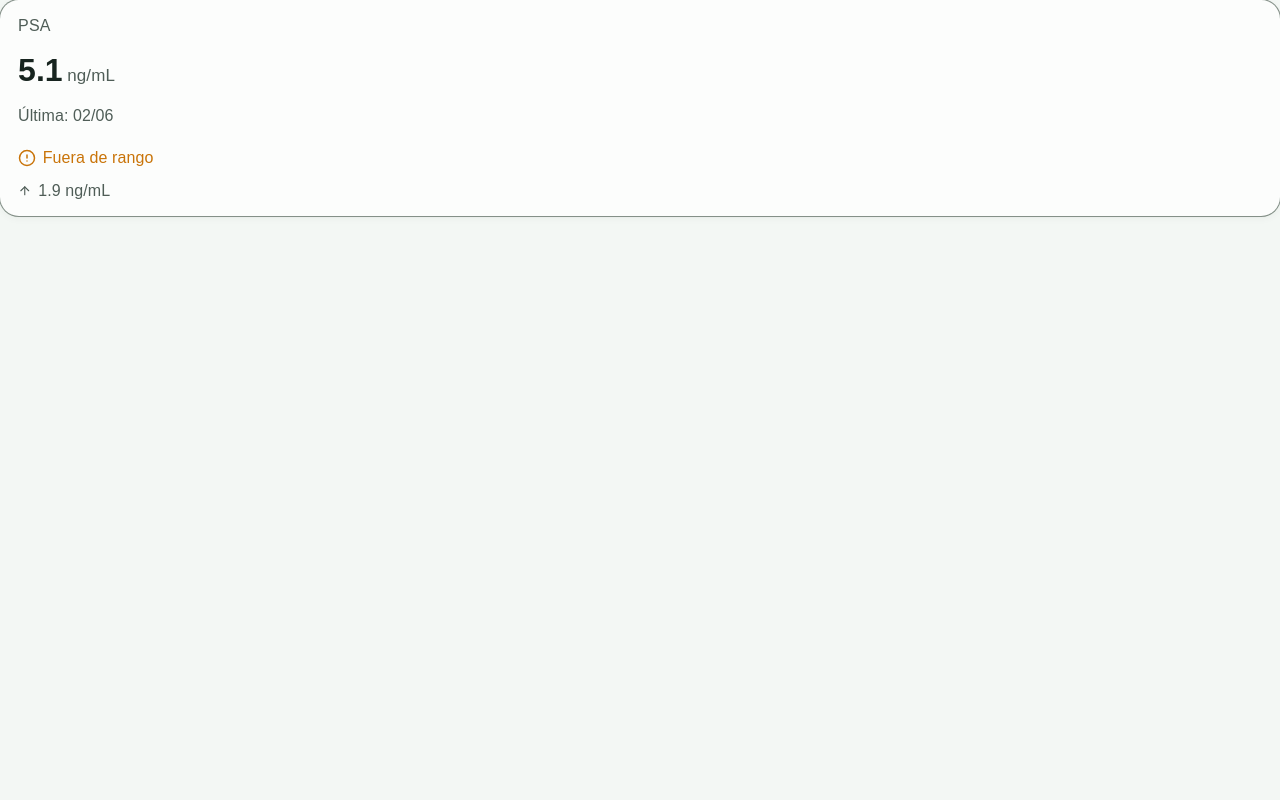
it: DialogoDetalleMetrica › al tocar la tarjeta, la lista muestra TODAS las mediciones, de la más reciente a la más vieja, con fecha y valor
Click the button with aria-label "ver todas las mediciones de psa".
click(640, 108)  # box [0,0,1279,216]
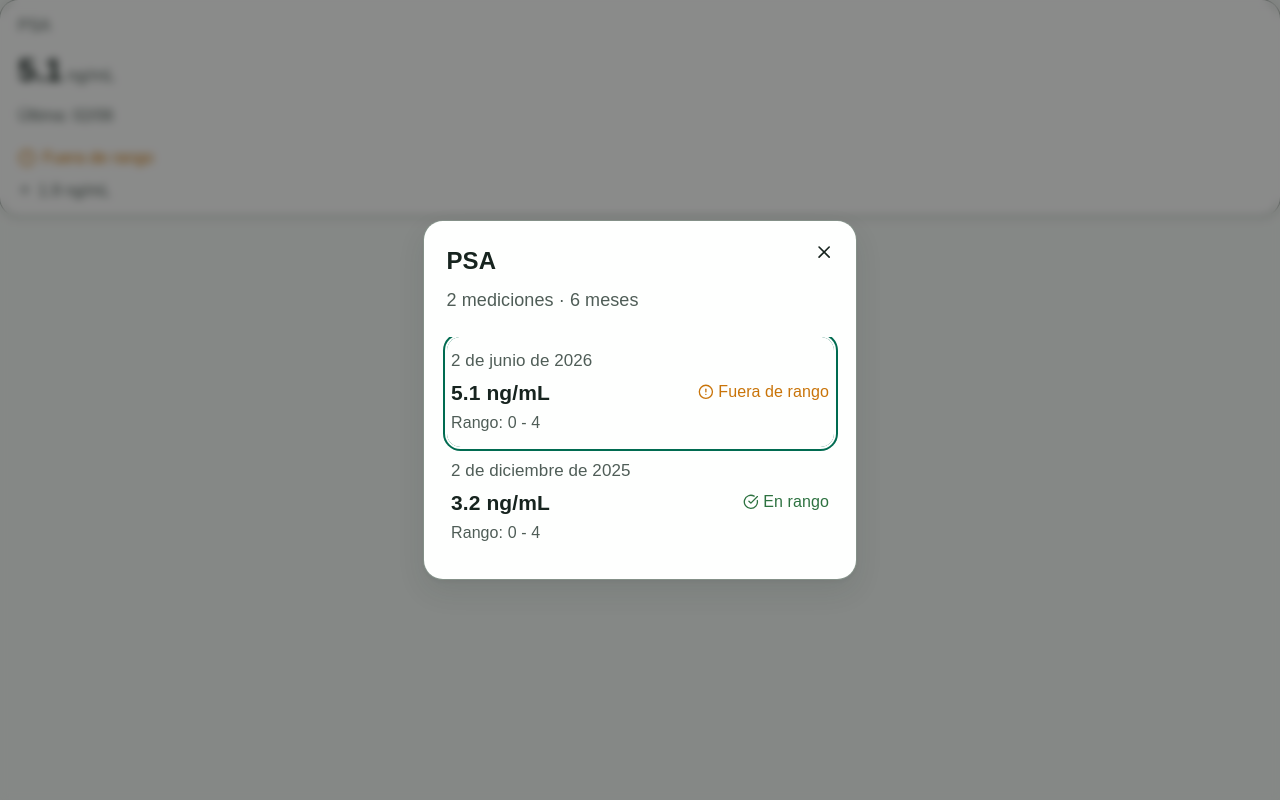
Now the dialog shows "PSA", box [446,246,496,274]
Now the dialog shows "2 de junio de 2026", box [446,337,834,447]
Now the dialog shows "5.1", box [446,337,834,447]
